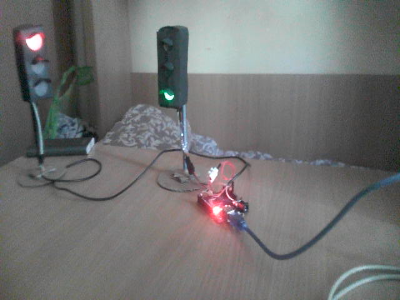trafficlight_green: (157, 32, 181, 106)
trafficlight_red: (18, 29, 48, 104)
